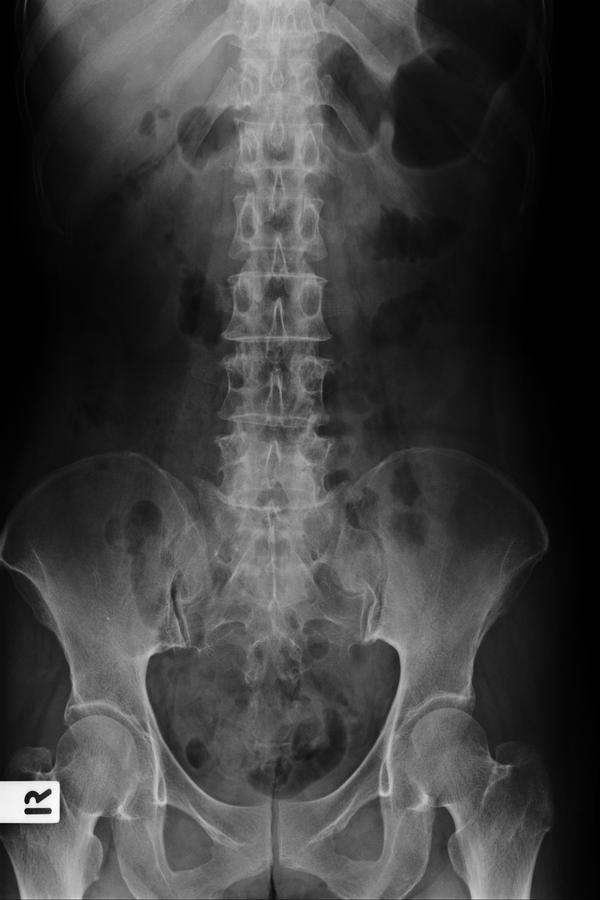not lumbar scoliosis: (207, 138, 344, 540)
